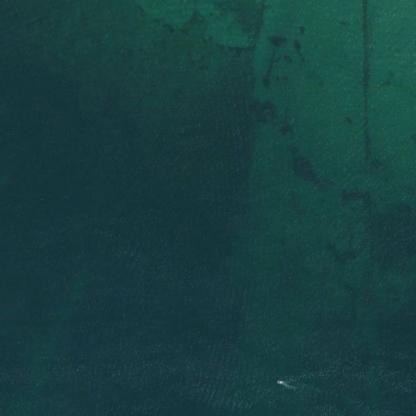ship: (268, 376, 290, 388)
